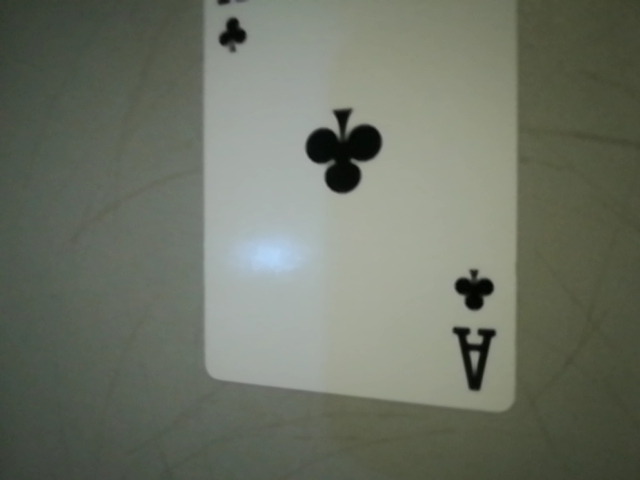mh a: (437, 254, 509, 402)
